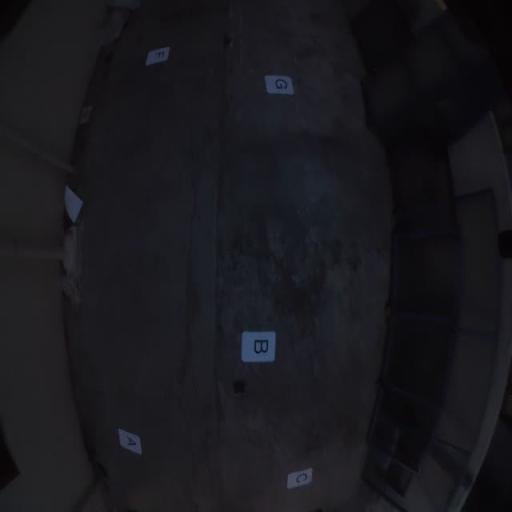A: (118, 429, 142, 454)
B: (241, 332, 275, 362)
C: (286, 467, 313, 489)
F: (146, 47, 170, 65)
G: (264, 75, 294, 95)
